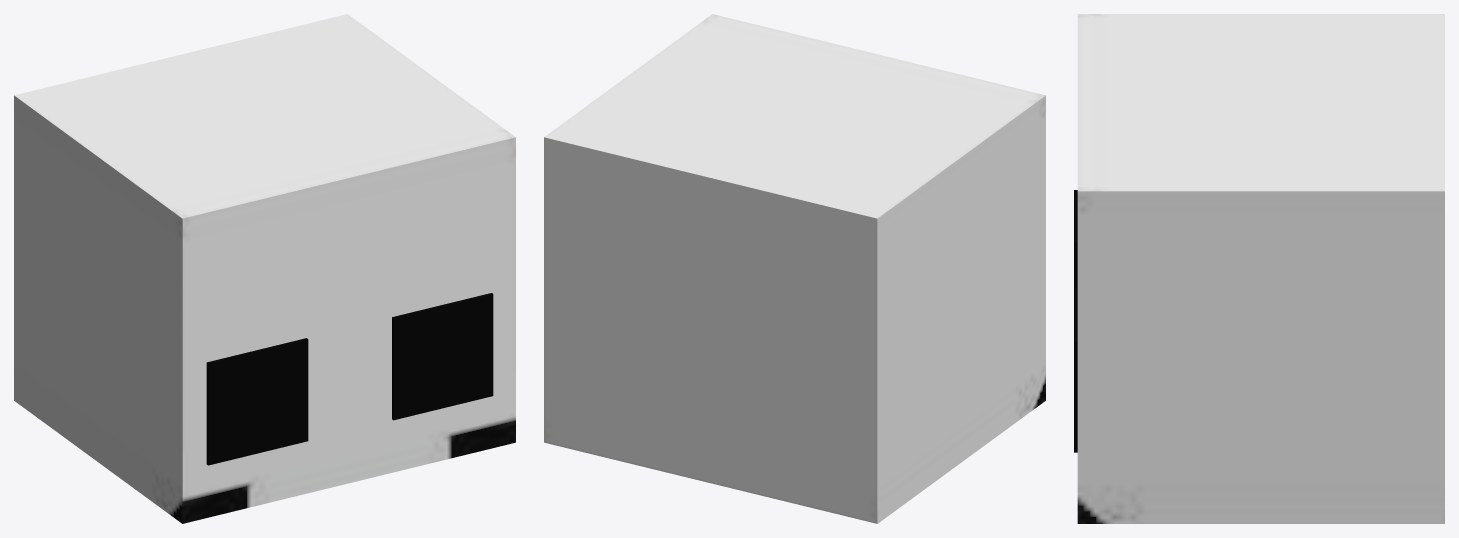
The model's file is skeleton.fbx.
3 renders of one model, left to right at view 1: azimuth 30°, elevation 25°; view 2: azimuth 150°, elevation 25°; view 3: azimuth 270°, elevation 25°, orthographic. The views are drawn at different scales.
Parts seen in each view (by area): view 1: skeleton, skeleton_eyes; view 2: skeleton; view 3: skeleton, skeleton_eyes.
Part boxes in pixels (x1,y1,x2,y2): skeleton: (14, 14, 515, 523); skeleton_eyes: (206, 293, 493, 465); skeleton: (544, 14, 1045, 523); skeleton: (1077, 14, 1444, 523); skeleton_eyes: (1074, 190, 1077, 452).
Size of the model in its own units: 40 by 35 by 35.34.
2 materials, 1 textured.
